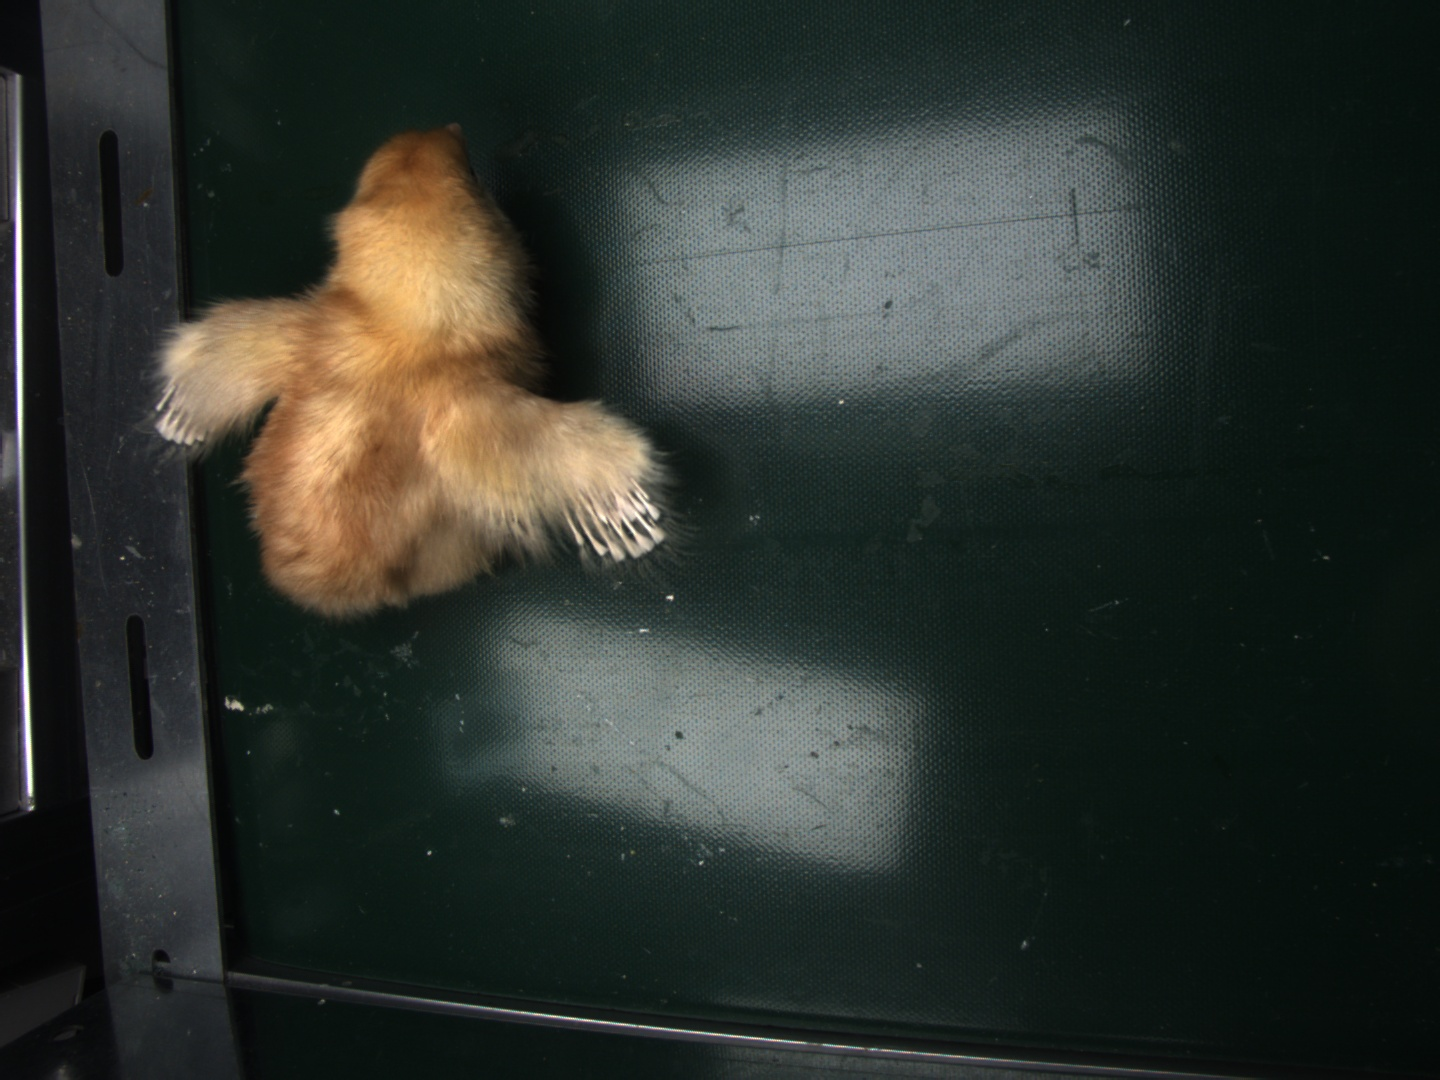female: (565, 479, 664, 558)
